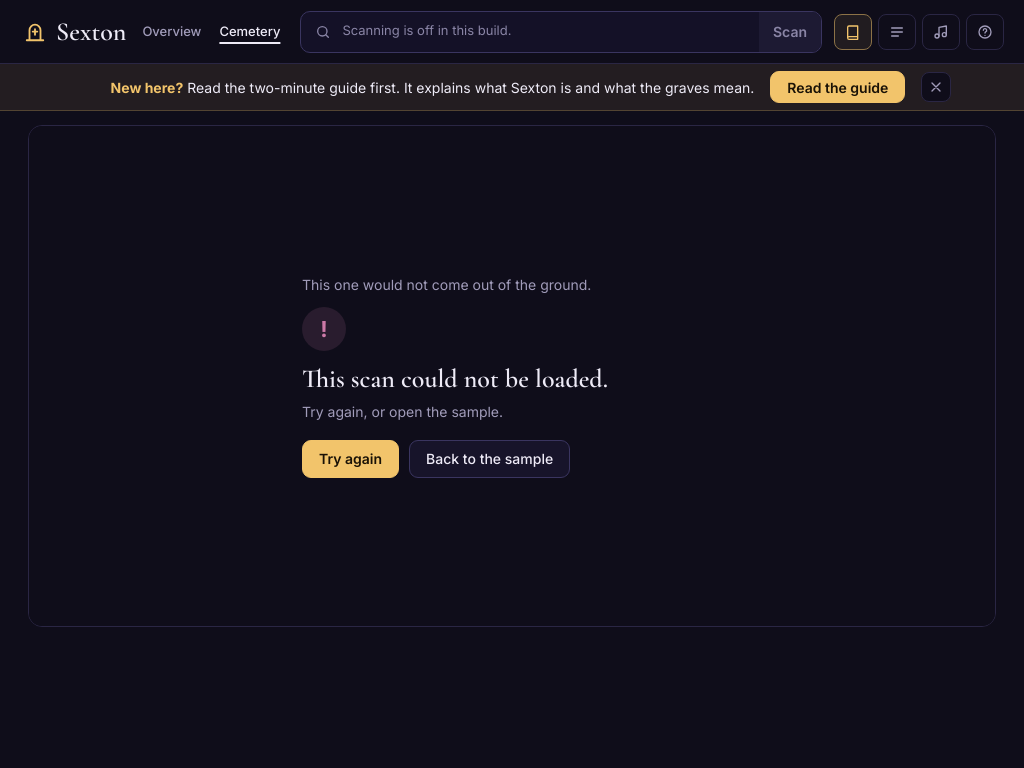
the Welcome bar (9.5 to 9.9, 9.11) › shows under the header with no stored choice, and its close button stores closed
Click the button named "Close the welcome bar" at (936, 87), box [921, 72, 951, 102]
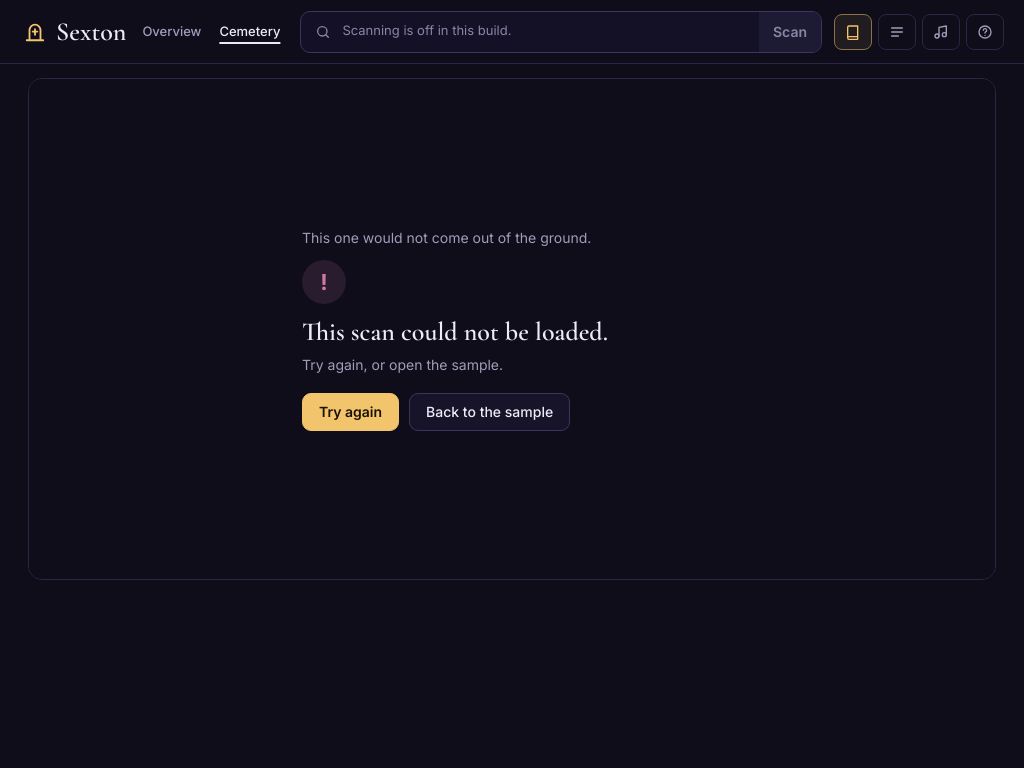
Expected: the button with class "welcome" is gone
